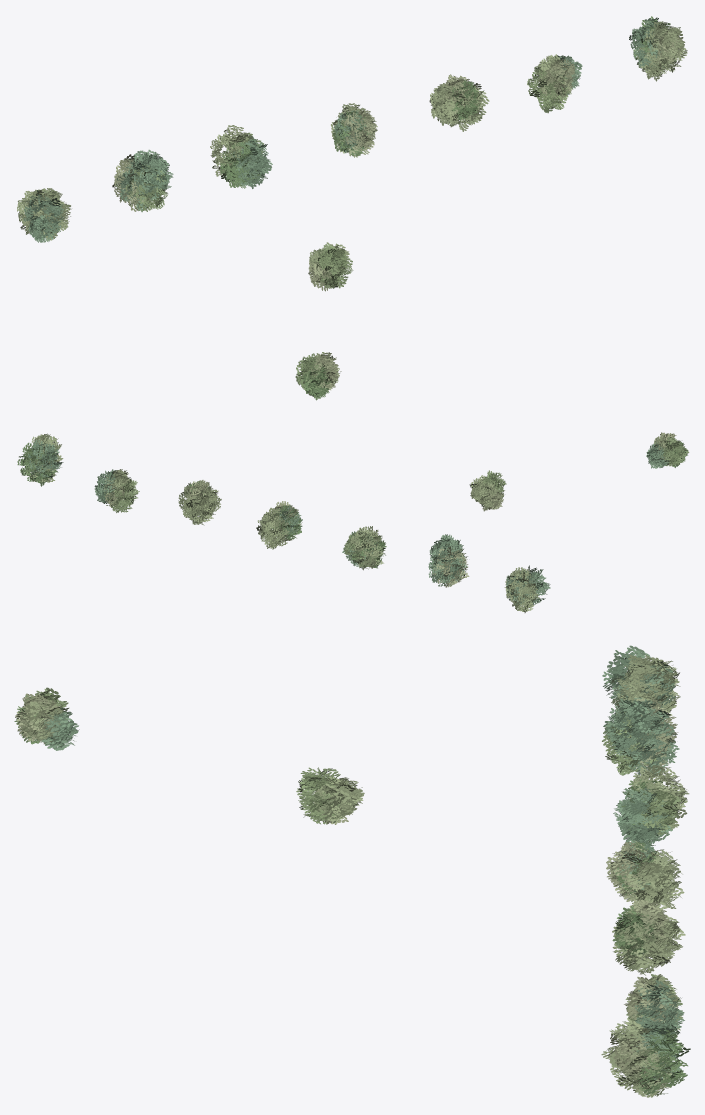
The model's file is campus-tree--2_-4-near.glb.
3 views of the same model, one above another, from view 1: azimuth 30°, elevation 25°; view 2: azimuth 150°, elevation 25°; view 3: azimuth 270°, elevation 25° (orthographic). The views are drawn at different scales.
Visible parts, largest first — view 1: Campus leaf canopy; view 2: Campus leaf canopy; view 3: Campus leaf canopy.
Boxes of the visible parts, x1,y1,x2,y2 form: Campus leaf canopy: [17, 16, 687, 400]; Campus leaf canopy: [17, 432, 689, 612]; Campus leaf canopy: [14, 645, 690, 1097].
Size of the model in its own units: 71.7 by 7.88 by 48.36.
Materials: 1 (1 with a texture image).
